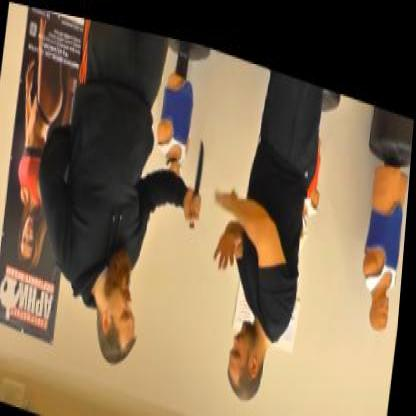knife: (186, 124, 210, 223)
